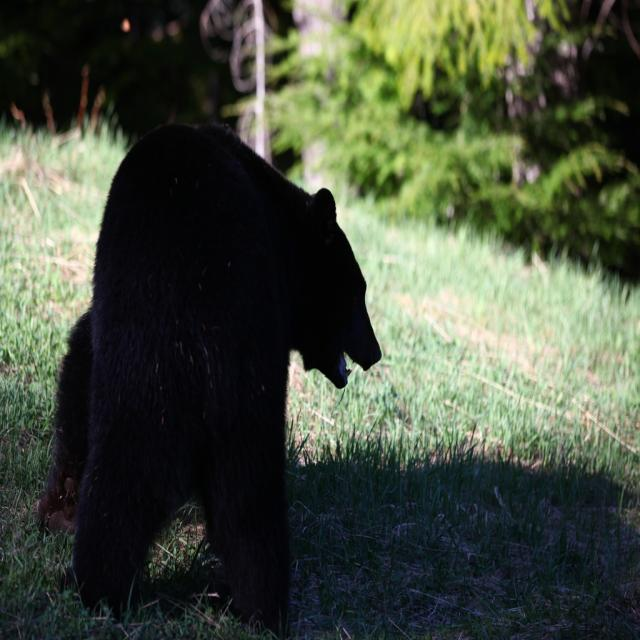Buffalo: (36, 124, 382, 639)
